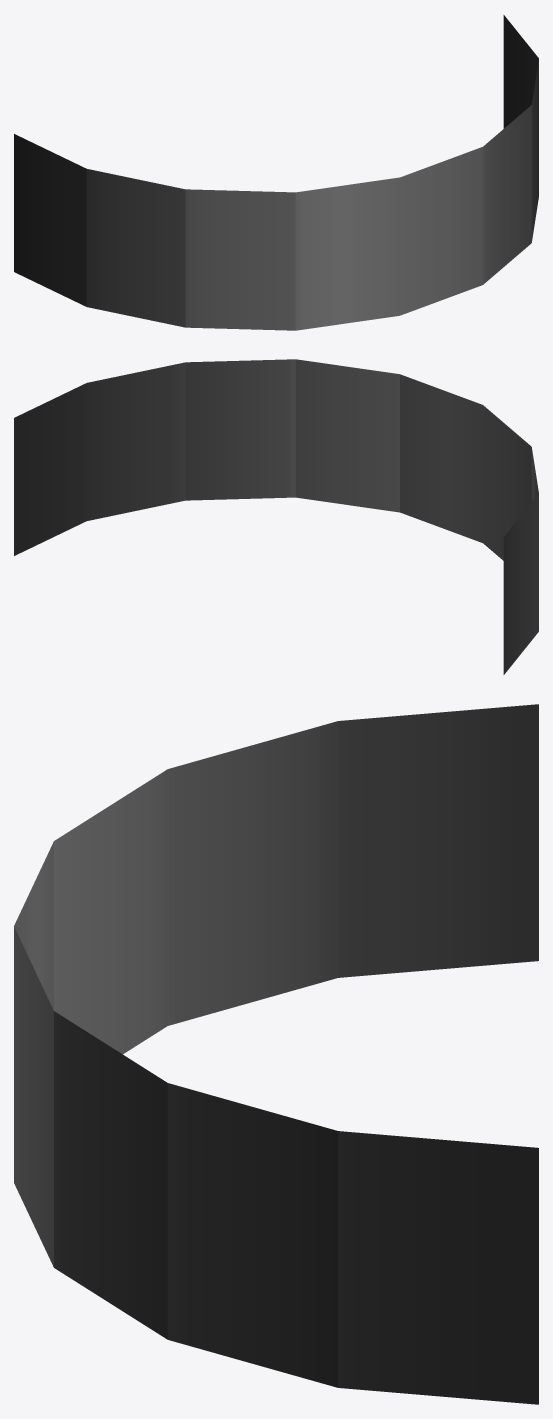
Rendered from bottom.gltf.
3 renders of one model, top to bottom at view 1: azimuth 30°, elevation 25°; view 2: azimuth 150°, elevation 25°; view 3: azimuth 270°, elevation 25°, orthographic. The views are drawn at different scales.
Parts seen in each view (by area): view 1: bottom; view 2: bottom; view 3: bottom.
Boxes of the visible parts, left/top/right/bottom form: bottom: left=14, top=15, right=538, bottom=330; bottom: left=14, top=359, right=538, bottom=674; bottom: left=14, top=704, right=538, bottom=1404.
Size of the model in its own units: 1 by 0.27 by 0.5.
Materials: 1 (1 with a texture image).
